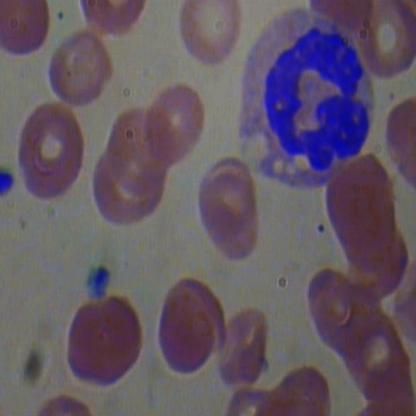Platelets: (82, 268, 111, 303), (0, 165, 22, 203)
RBC: (64, 294, 142, 388), (17, 98, 87, 202), (102, 103, 170, 200), (198, 166, 260, 266), (158, 289, 216, 383), (48, 28, 114, 108), (142, 86, 208, 166), (357, 0, 415, 83), (214, 303, 266, 389), (177, 2, 245, 66), (381, 86, 415, 197), (1, 1, 51, 64), (80, 1, 150, 39)
WBC: (226, 3, 384, 192)
